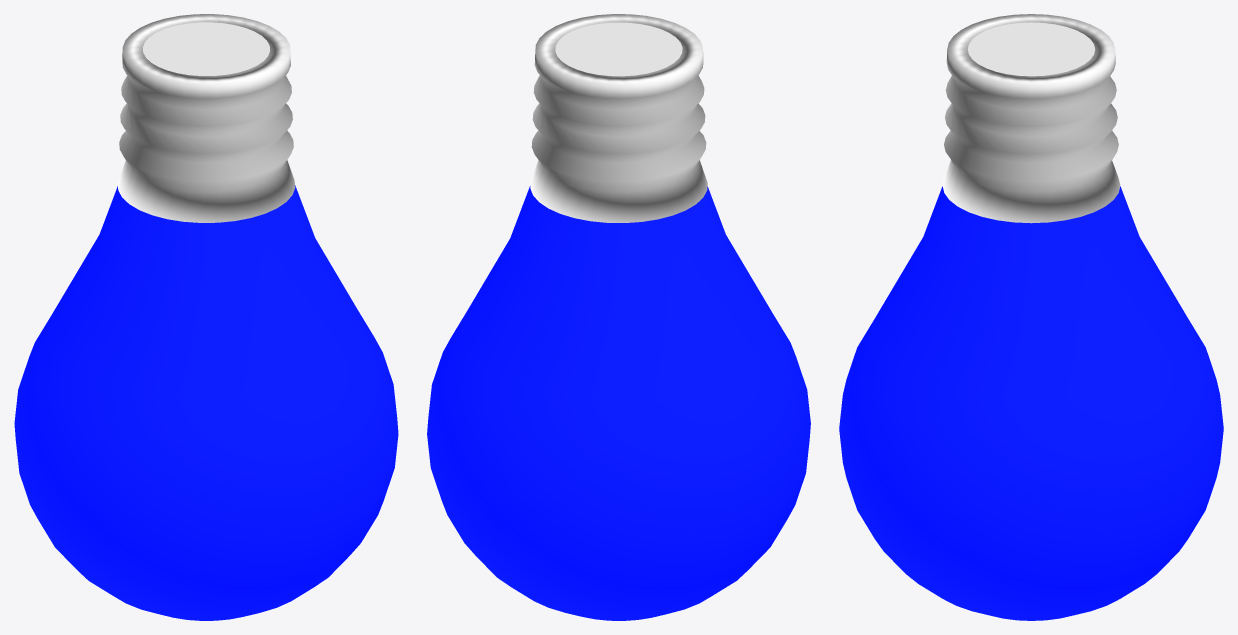
The model's file is bulbon1.gltf.
The picture shows the model from 3 angles, left to right: view 1: azimuth 30°, elevation 25°; view 2: azimuth 150°, elevation 25°; view 3: azimuth 270°, elevation 25°; orthographic projection.
Parts seen in each view (by area): view 1: Sphere; view 2: Sphere; view 3: Sphere.
Part boxes in pixels (x1,y1,x2,y2): Sphere: [14, 14, 398, 620]; Sphere: [427, 14, 810, 620]; Sphere: [839, 14, 1223, 620].
Bounding box in the file's own units: 0.5973 × 0.9487 × 0.5973.
